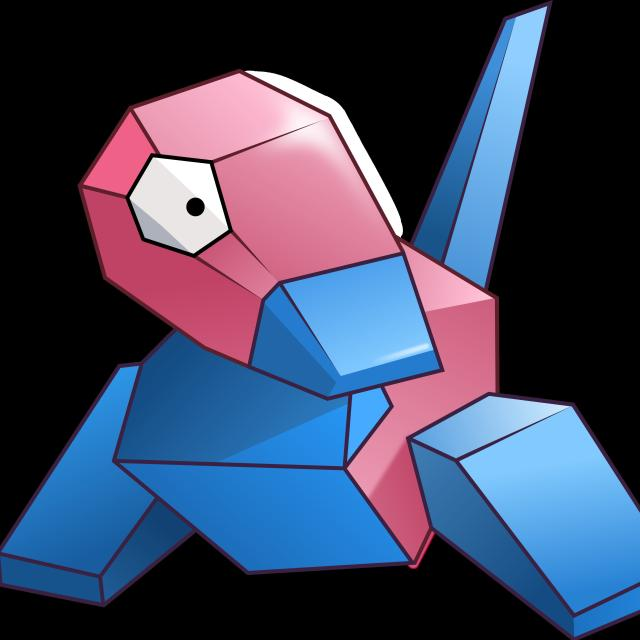Porygon: (81, 80, 554, 567)
